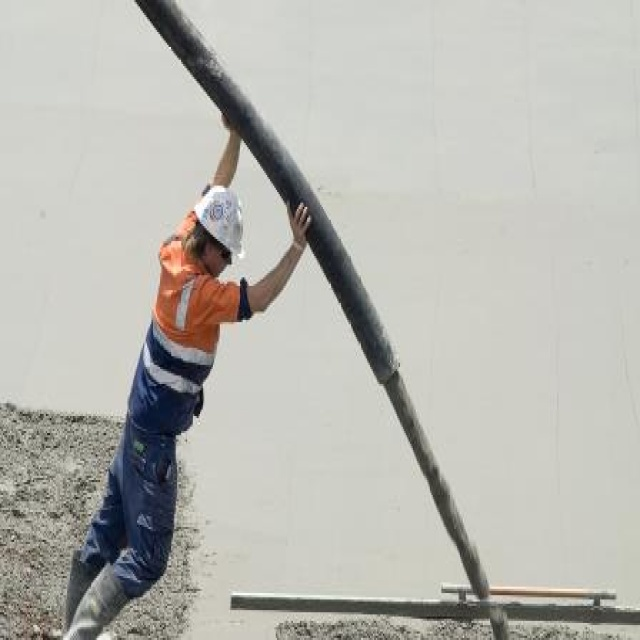Helmet: (176, 172, 254, 294)
Reflective vest: (115, 230, 238, 441)
